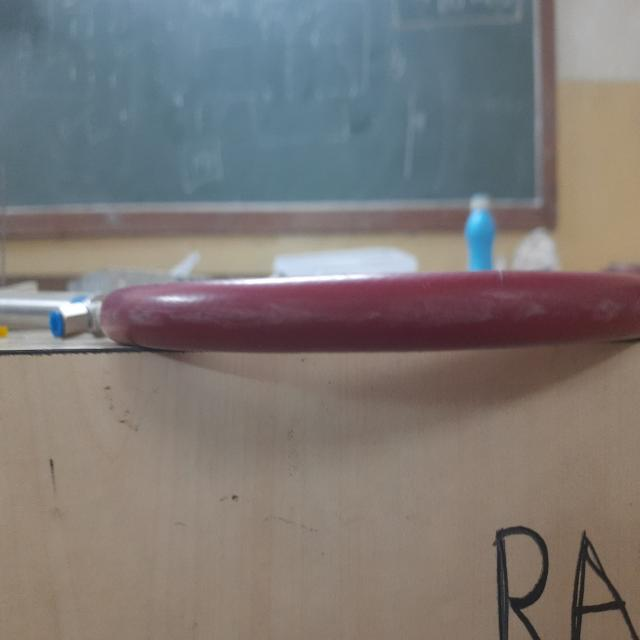daire: (110, 284, 640, 349)
